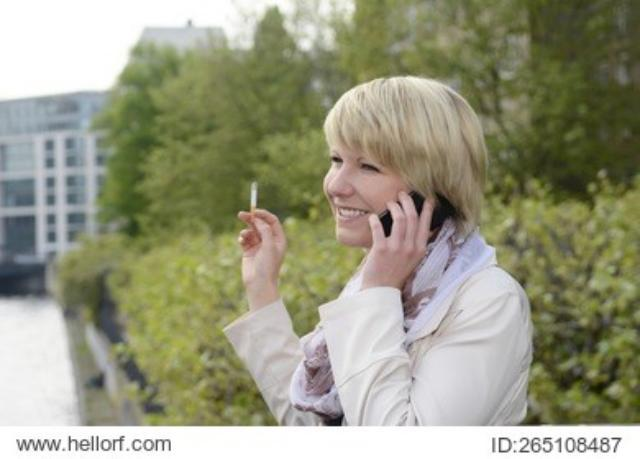SafeDriving: (354, 152, 390, 180)
Smoking: (244, 171, 264, 235)
